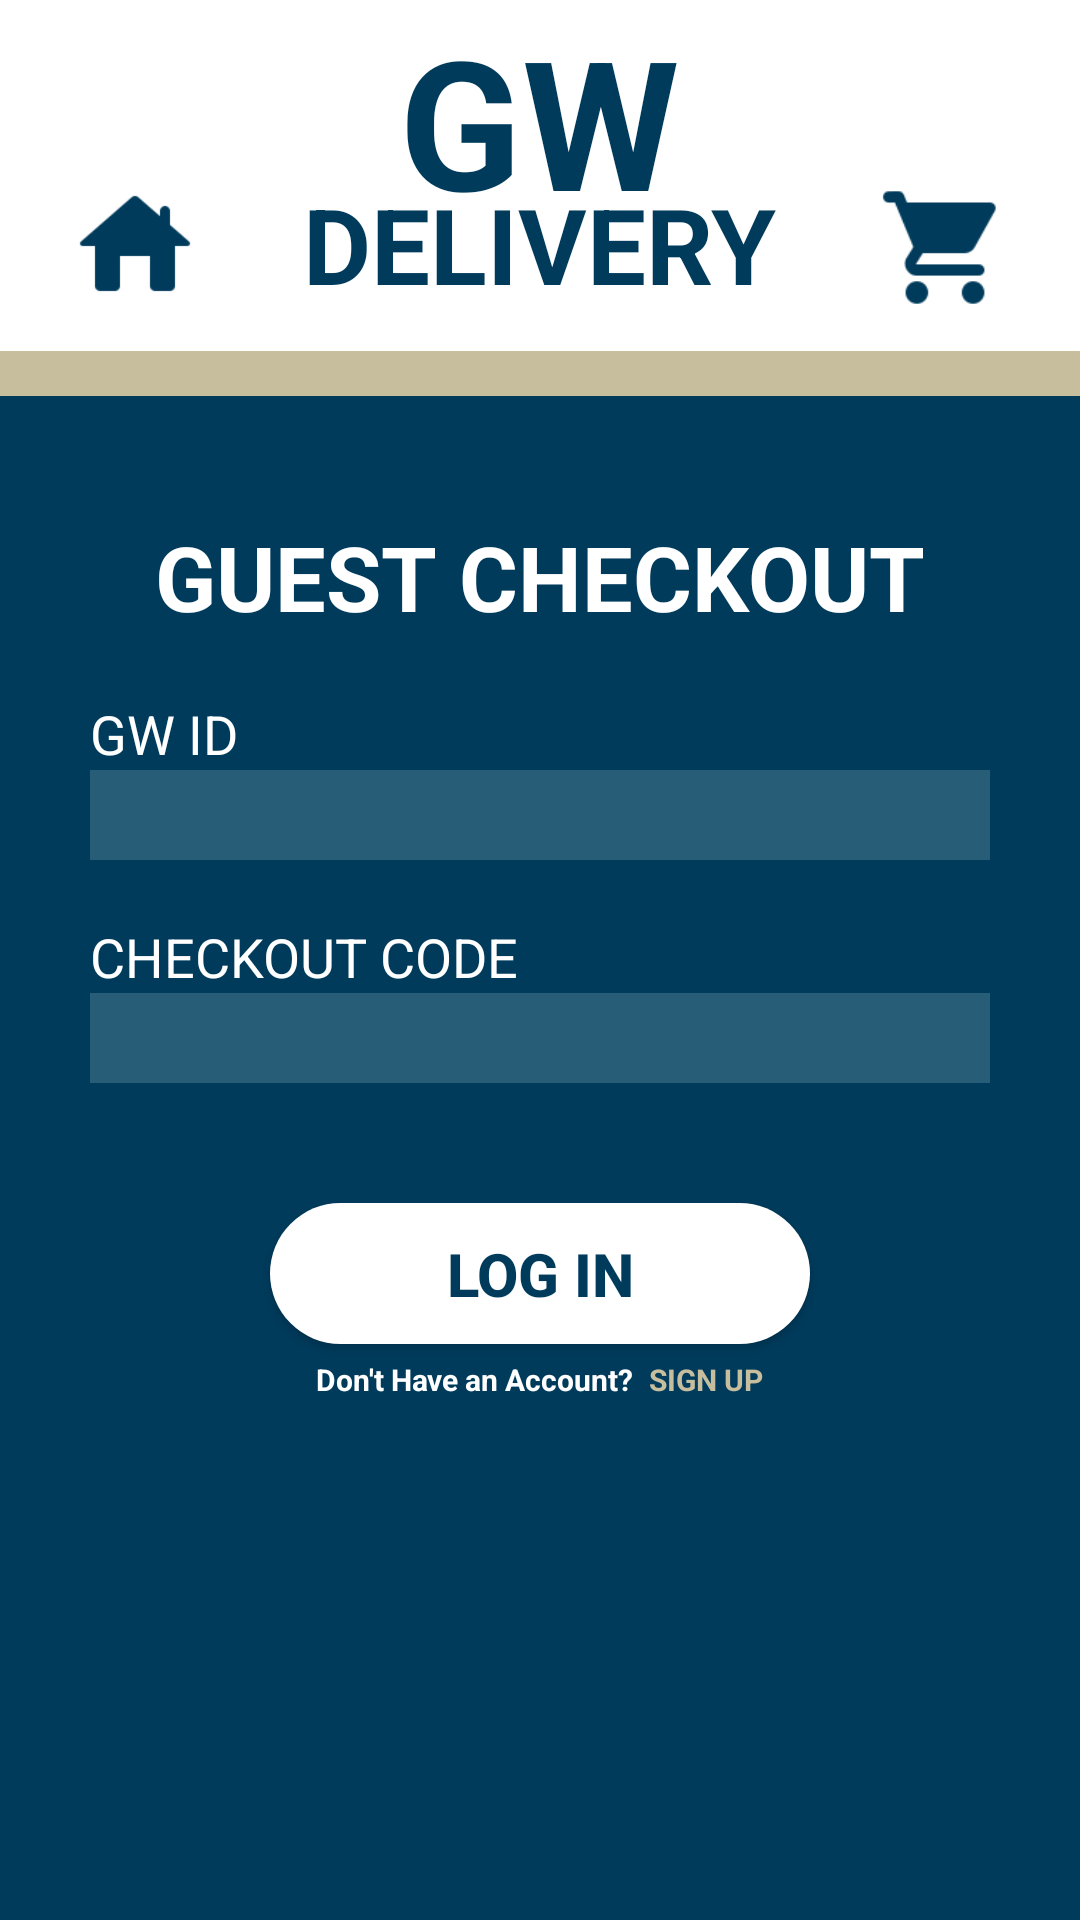

Where icons sit on this 1080 x 1920 app screen, as (x1, y1, x2, y2):
home: (80, 196, 190, 292)
shopping cart: (883, 191, 996, 304)
